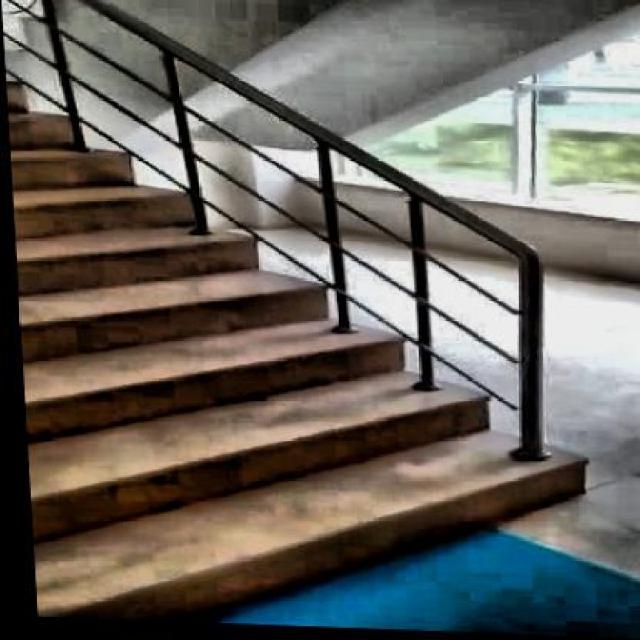stair: (3, 11, 640, 638)
